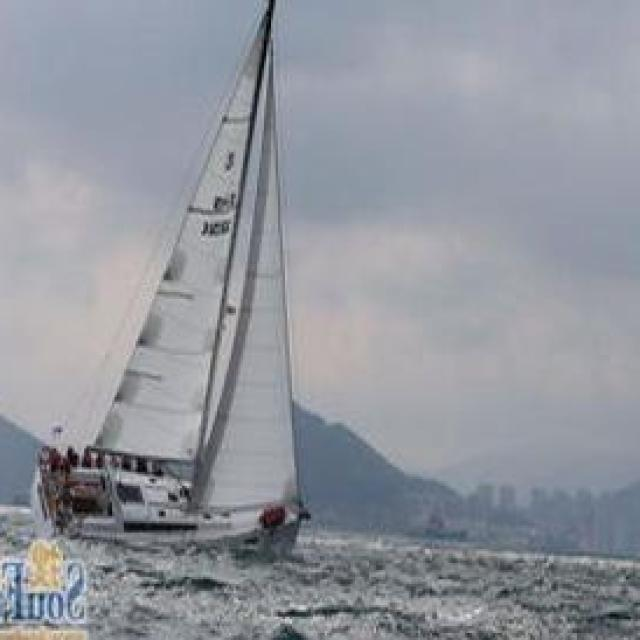sailboat: (0, 0, 325, 549)
